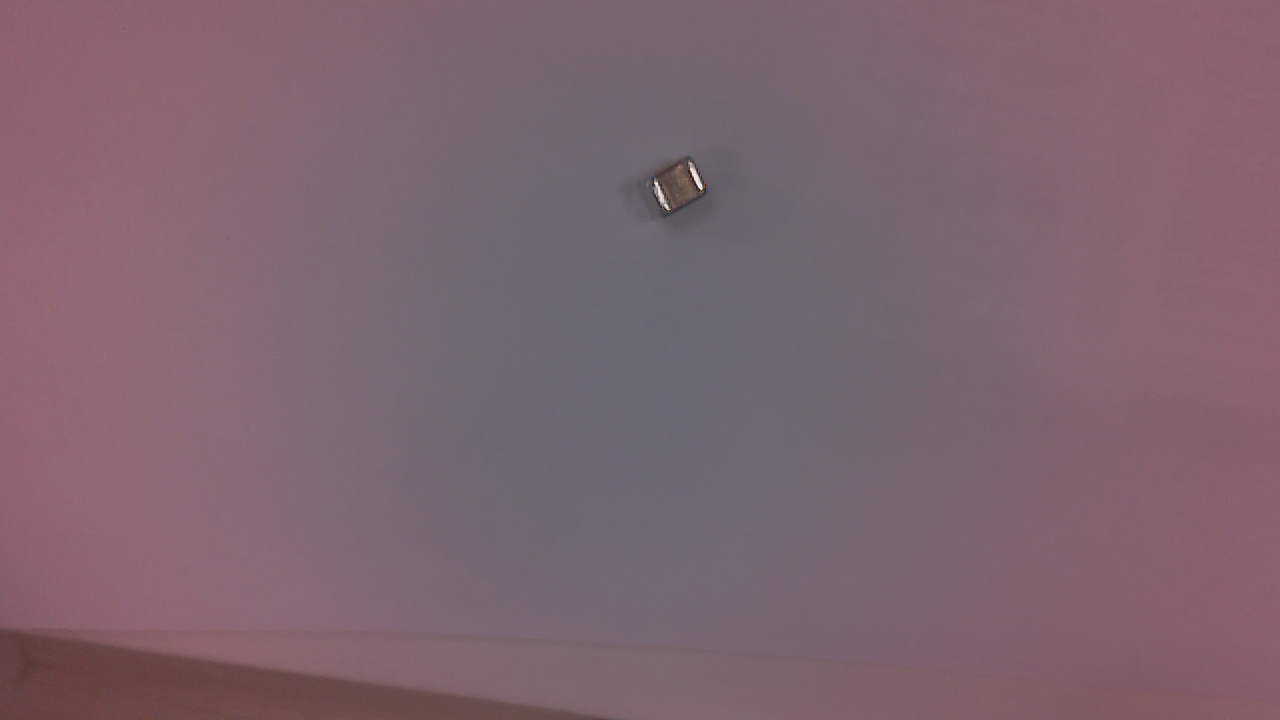Condensator: (647, 160, 715, 225)
